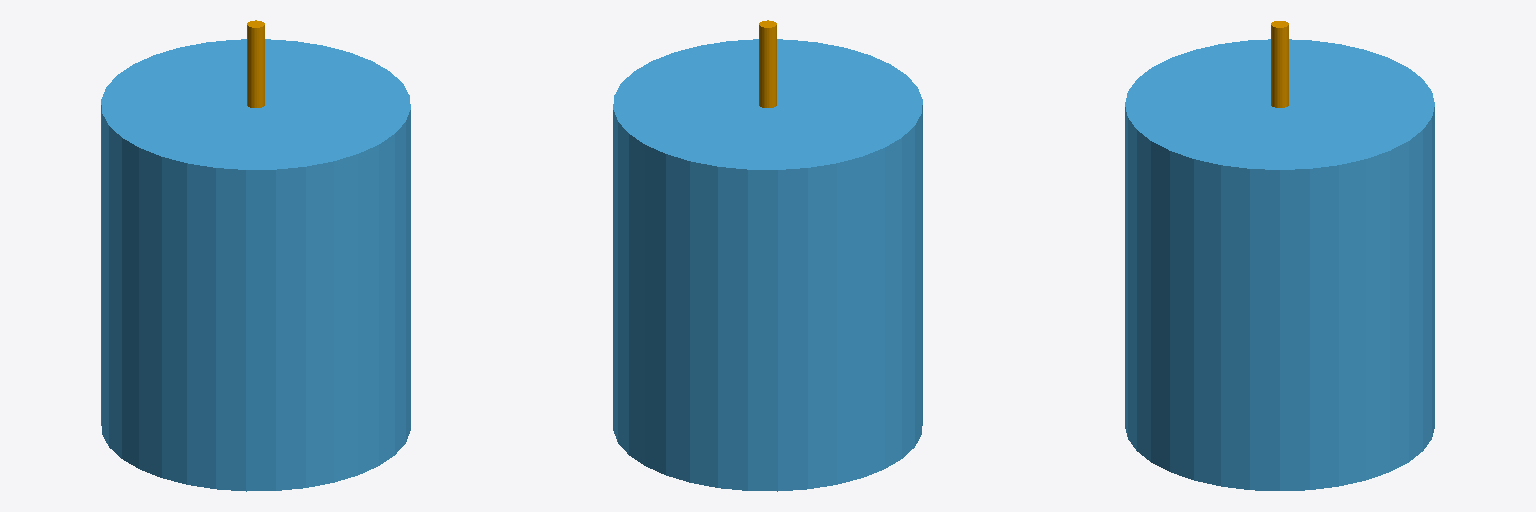
robot.urdf — pepper_plant:
<?xml version="1.0"?>
<robot name="pepper_plant">

  <!-- Peduncle (Fruit Stem) -->
  <link name="peduncle">
    <visual>
      <geometry>
        <cylinder length="0.02" radius="0.002"/>  <!-- 25mm length, 4mm dia -->
      </geometry>
    </visual>
    <collision>
      <geometry>
        <cylinder length="0.02" radius="0.002"/>
      </geometry>
    </collision>
    <inertial>
      <mass value="0.005"/>  <!-- 5g based on avg pedicel weight [2] -->
      <inertia ixx="0.0001" ixy="0" ixz="0" iyy="0.0001" iyz="0" izz="0.0001"/>
    </inertial>
  </link>

  <!-- Pepper Fruit -->
  <link name="fruit">
    <visual>
      <geometry>
        <cylinder length="0.08" radius="0.035"/>  <!-- 80mm length, 70mm dia -->
      </geometry>
    </visual>
    <collision>
      <geometry>
        <cylinder length="0.08" radius="0.035"/>
      </geometry>
    </collision>
    <inertial>
      <mass value="0.15"/>  <!-- 150g avg fruit weight [1][7] -->
      <inertia ixx="0.001" ixy="0" ixz="0" iyy="0.001" iyz="0" izz="0.001"/>
    </inertial>
  </link>

  <!-- Peduncle-Fruit Connection -->
  <joint name="peduncle_to_fruit" type="fixed">
    <parent link="peduncle"/>
    <child link="fruit"/>
    <origin xyz="0 0 -0.05" rpy="0 0 0"/>  <!-- Center of peduncle top -->
  </joint>

  <gazebo reference="peduncle">
    <material>Gazebo/Green</material>
    <sensor type="contact" name="my_contact">
      <collision>asdf</collision>
    </sensor>
  </gazebo>

  <gazebo reference="fruit">
    <material>Gazebo/Blue</material>
  </gazebo>

</robot>

--- What the picture shows (computed from the rendered views, not written in the file) ---
3 views of the same robot in one strip: view 1: azimuth 30°, elevation 25°; view 2: azimuth 150°, elevation 25°; view 3: azimuth 270°, elevation 25° (orthographic).
Model pepper_plant with 2 links and 1 joints (1 fixed), rooted at peduncle, posed every joint at zero.
Links seen in each view (by area): view 1: fruit, peduncle; view 2: fruit, peduncle; view 3: fruit, peduncle.
Boxes of the visible links, x1,y1,x2,y2 form: fruit: (101, 39, 410, 491); peduncle: (247, 20, 264, 107); fruit: (613, 39, 922, 491); peduncle: (759, 20, 776, 107); fruit: (1125, 39, 1434, 490); peduncle: (1271, 21, 1288, 107).
Bounding box of the posed robot: 0.07 × 0.07 × 0.1 m (x, y, z).
Geometry: primitives only (box / cylinder / sphere), no mesh files.